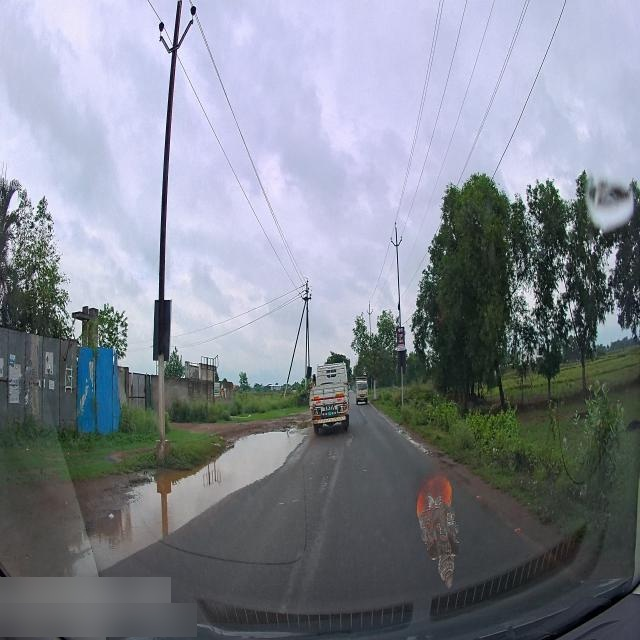pothole: (88, 430, 295, 537)
